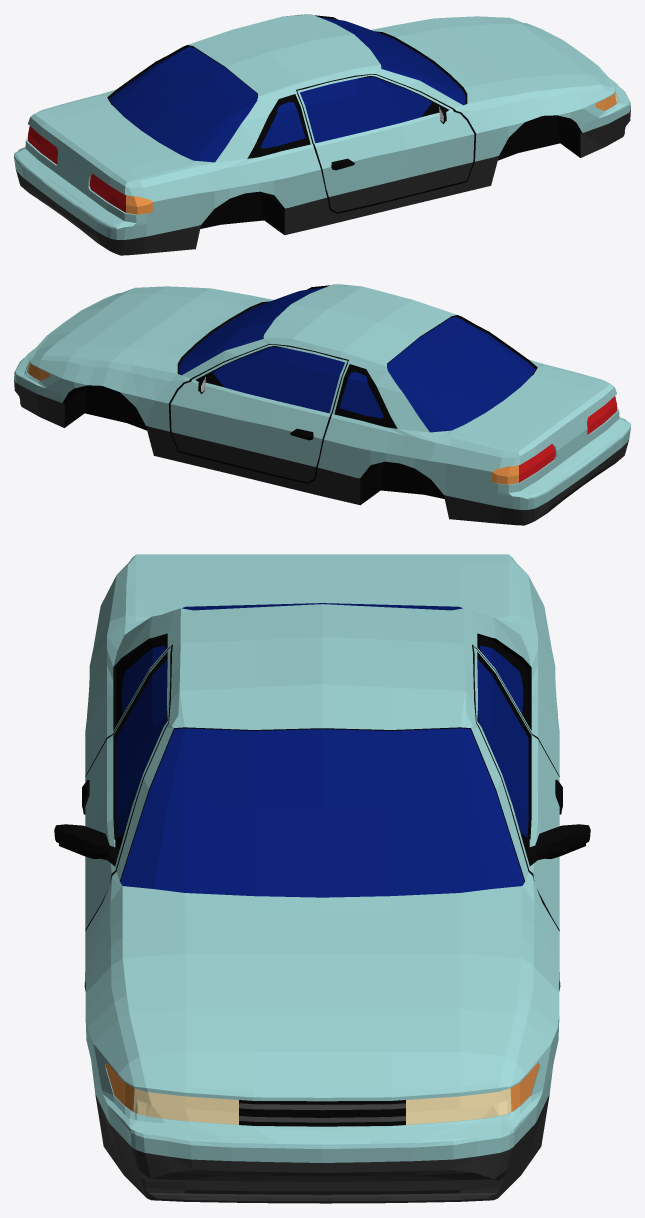
Rendered from Silvia.fbx.
3 renders of one model, top to bottom at view 1: azimuth 30°, elevation 25°; view 2: azimuth 150°, elevation 25°; view 3: azimuth 270°, elevation 25°, orthographic. The views are drawn at different scales.
Visible parts, largest first — view 1: Cube; view 2: Cube; view 3: Cube.
Boxes of the visible parts, box(x1,y1,x2,y2) form: Cube: box(14, 14, 630, 255); Cube: box(14, 284, 630, 525); Cube: box(54, 554, 590, 1203).
Size of the model in its own units: 4144 by 996 by 1790.
